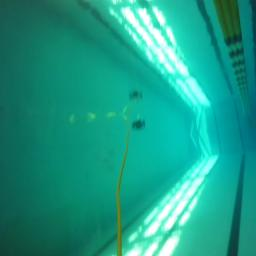Full: (131, 120, 145, 130)
